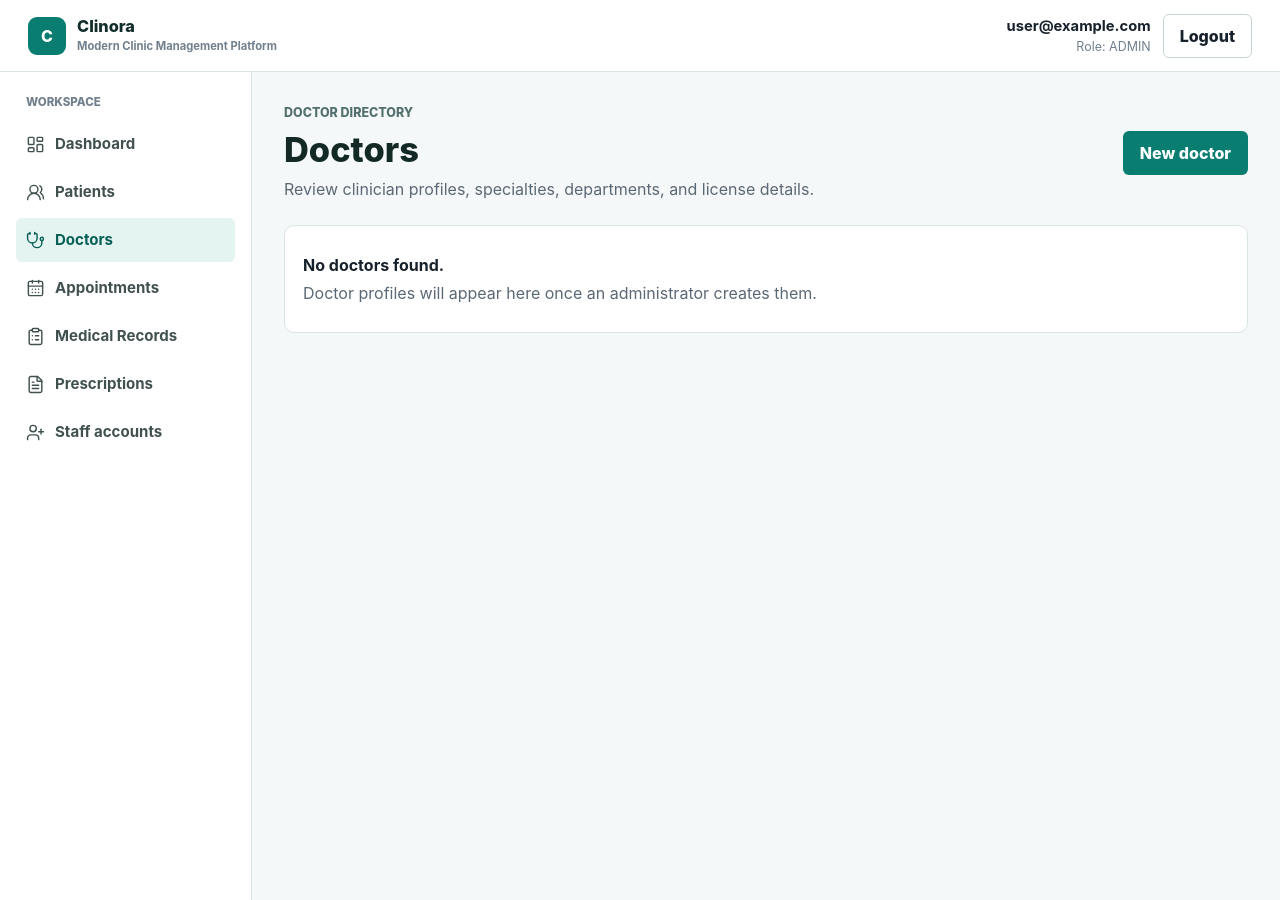
Test case: DoctorsPage › validates doctor form input before submitting
The width and height of the screenshot is (1280, 900).
Click the button "New doctor": [1185, 153] box [1123, 131, 1248, 175]
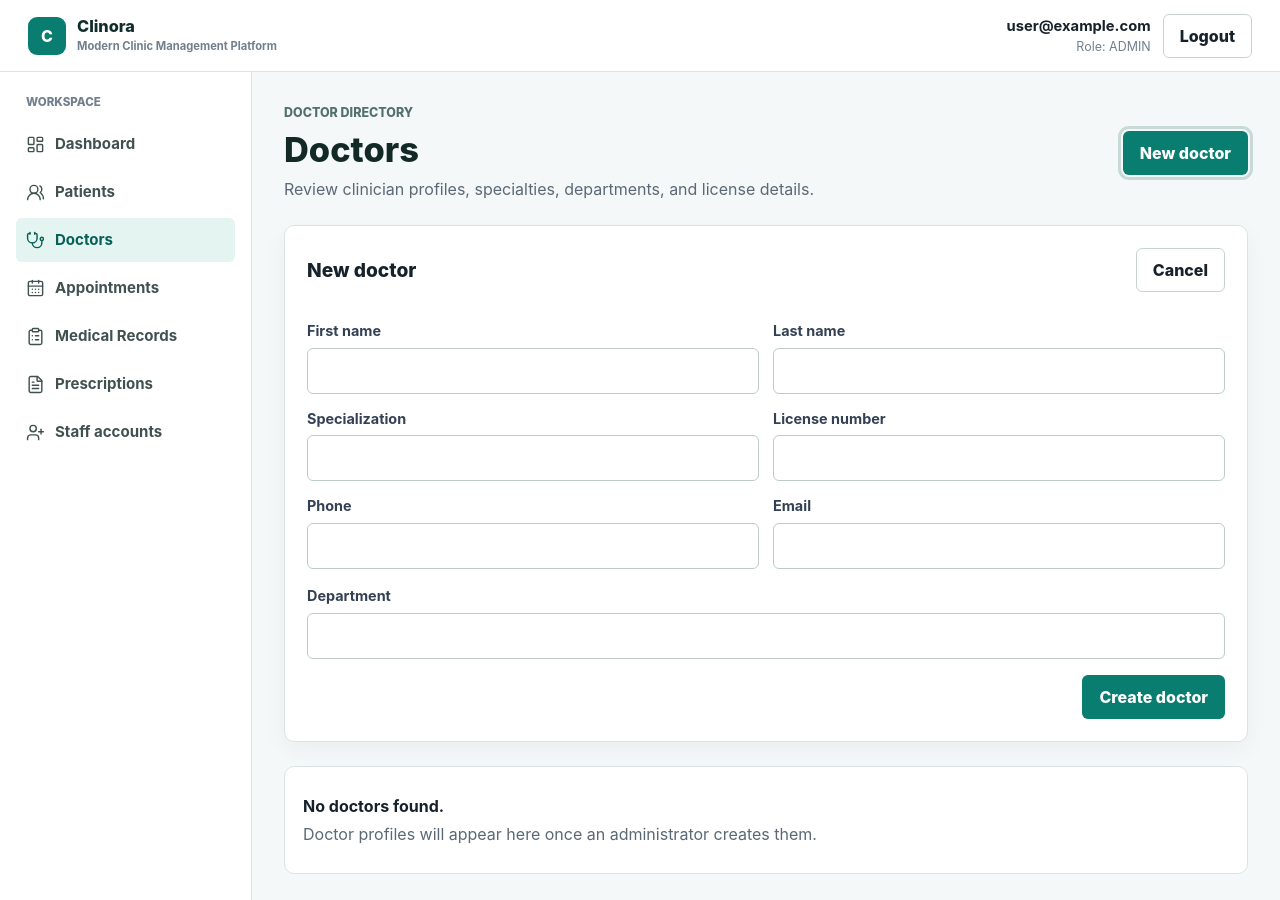
Click the button "Create doctor": [1154, 697] box [1082, 675, 1225, 719]
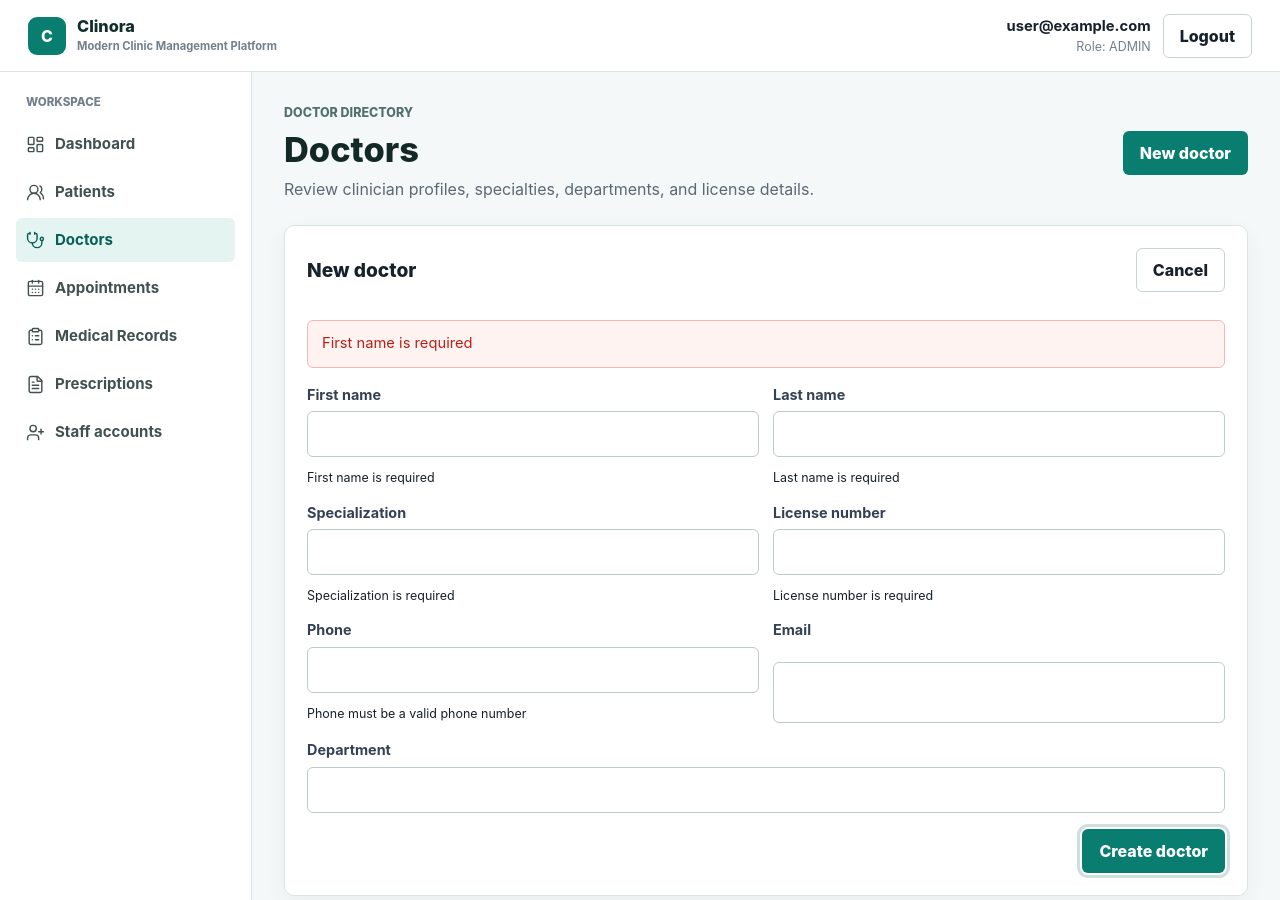
Expected: the 1st message "First name is required" is shown, [307, 320, 1225, 368]
